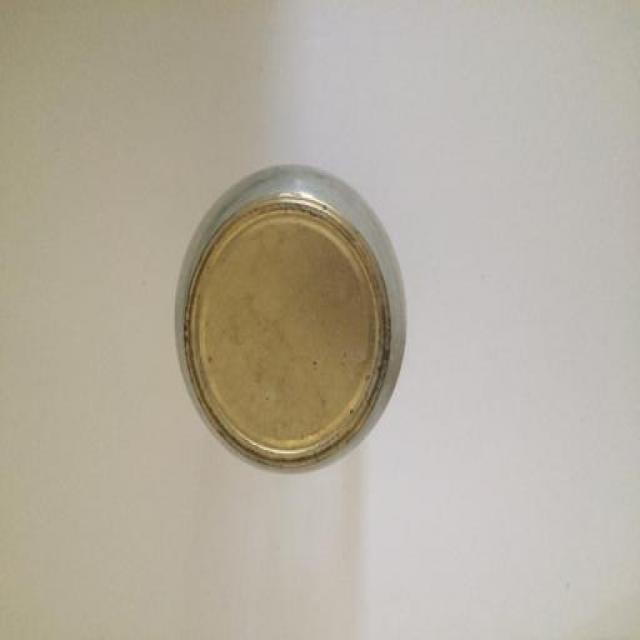Waste: (176, 165, 406, 469)
